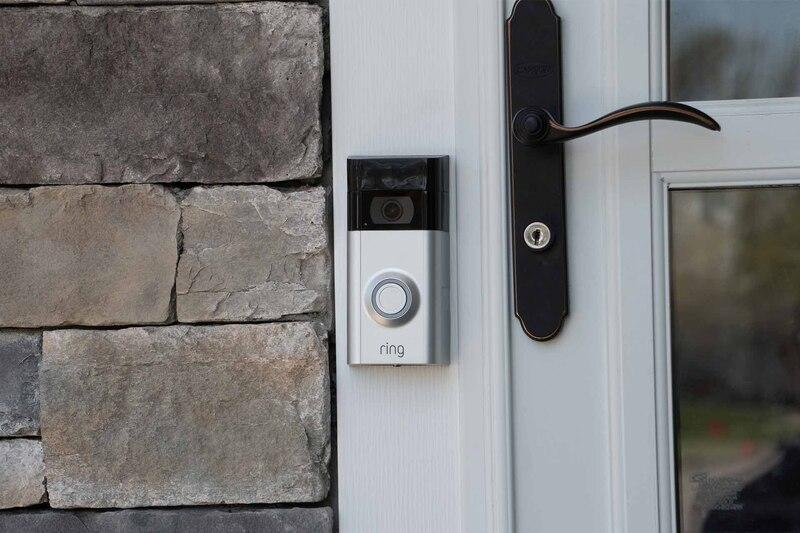doorbell: (339, 141, 457, 389)
